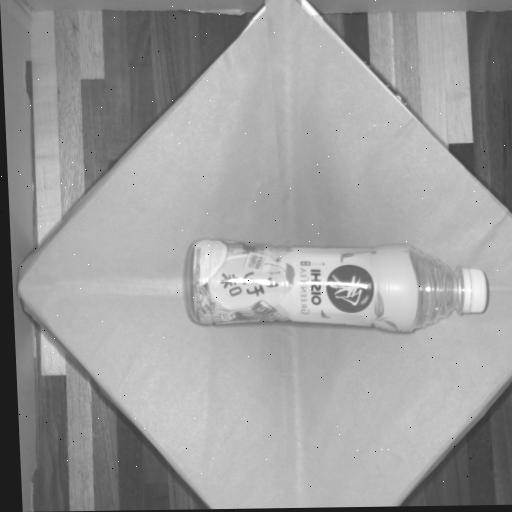bottle: (189, 240, 486, 331)
